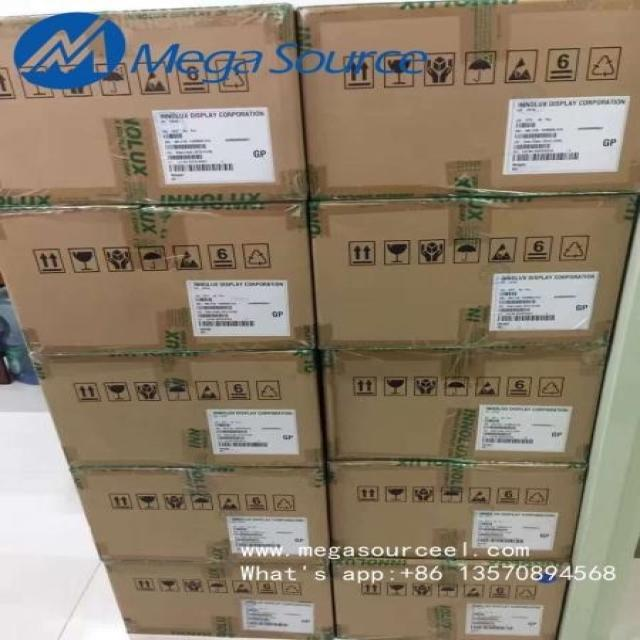Carton: (3, 206, 313, 469), (307, 2, 639, 193), (0, 5, 302, 204), (317, 202, 626, 351), (327, 349, 607, 469), (327, 473, 579, 578), (74, 473, 324, 573)
